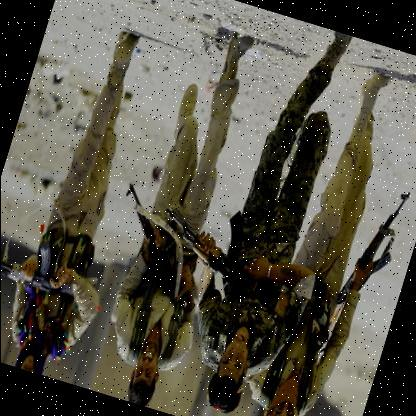rifle: (138, 190, 312, 328), (329, 175, 416, 326), (100, 181, 206, 300), (0, 211, 101, 306)
